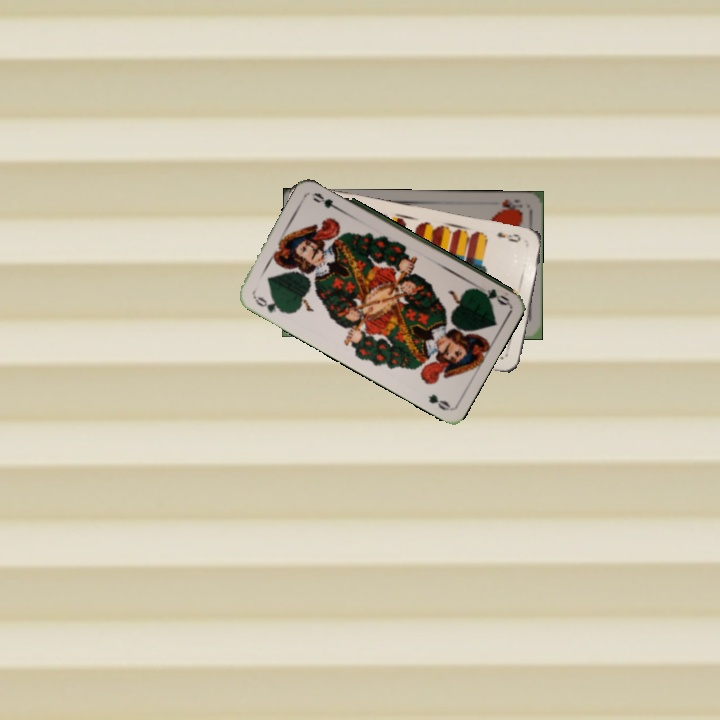E9: (493, 228, 523, 245)
GO: (471, 284, 512, 308), (250, 292, 288, 316)
HO: (497, 196, 526, 214)
